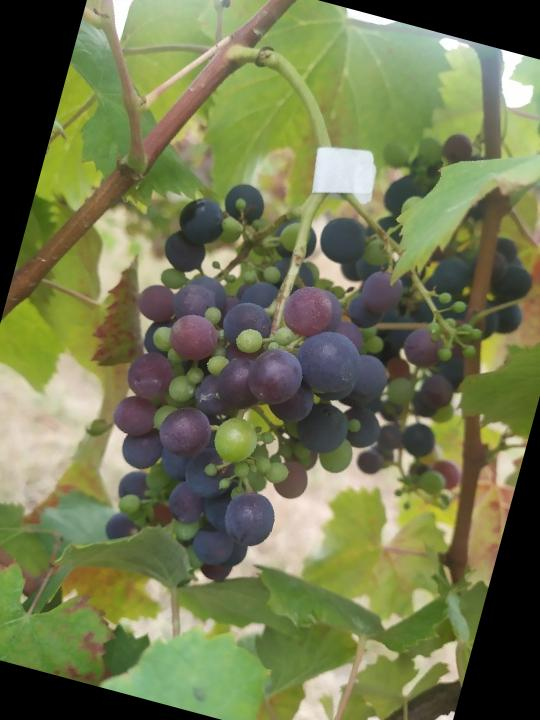grape: (67, 154, 436, 615)
